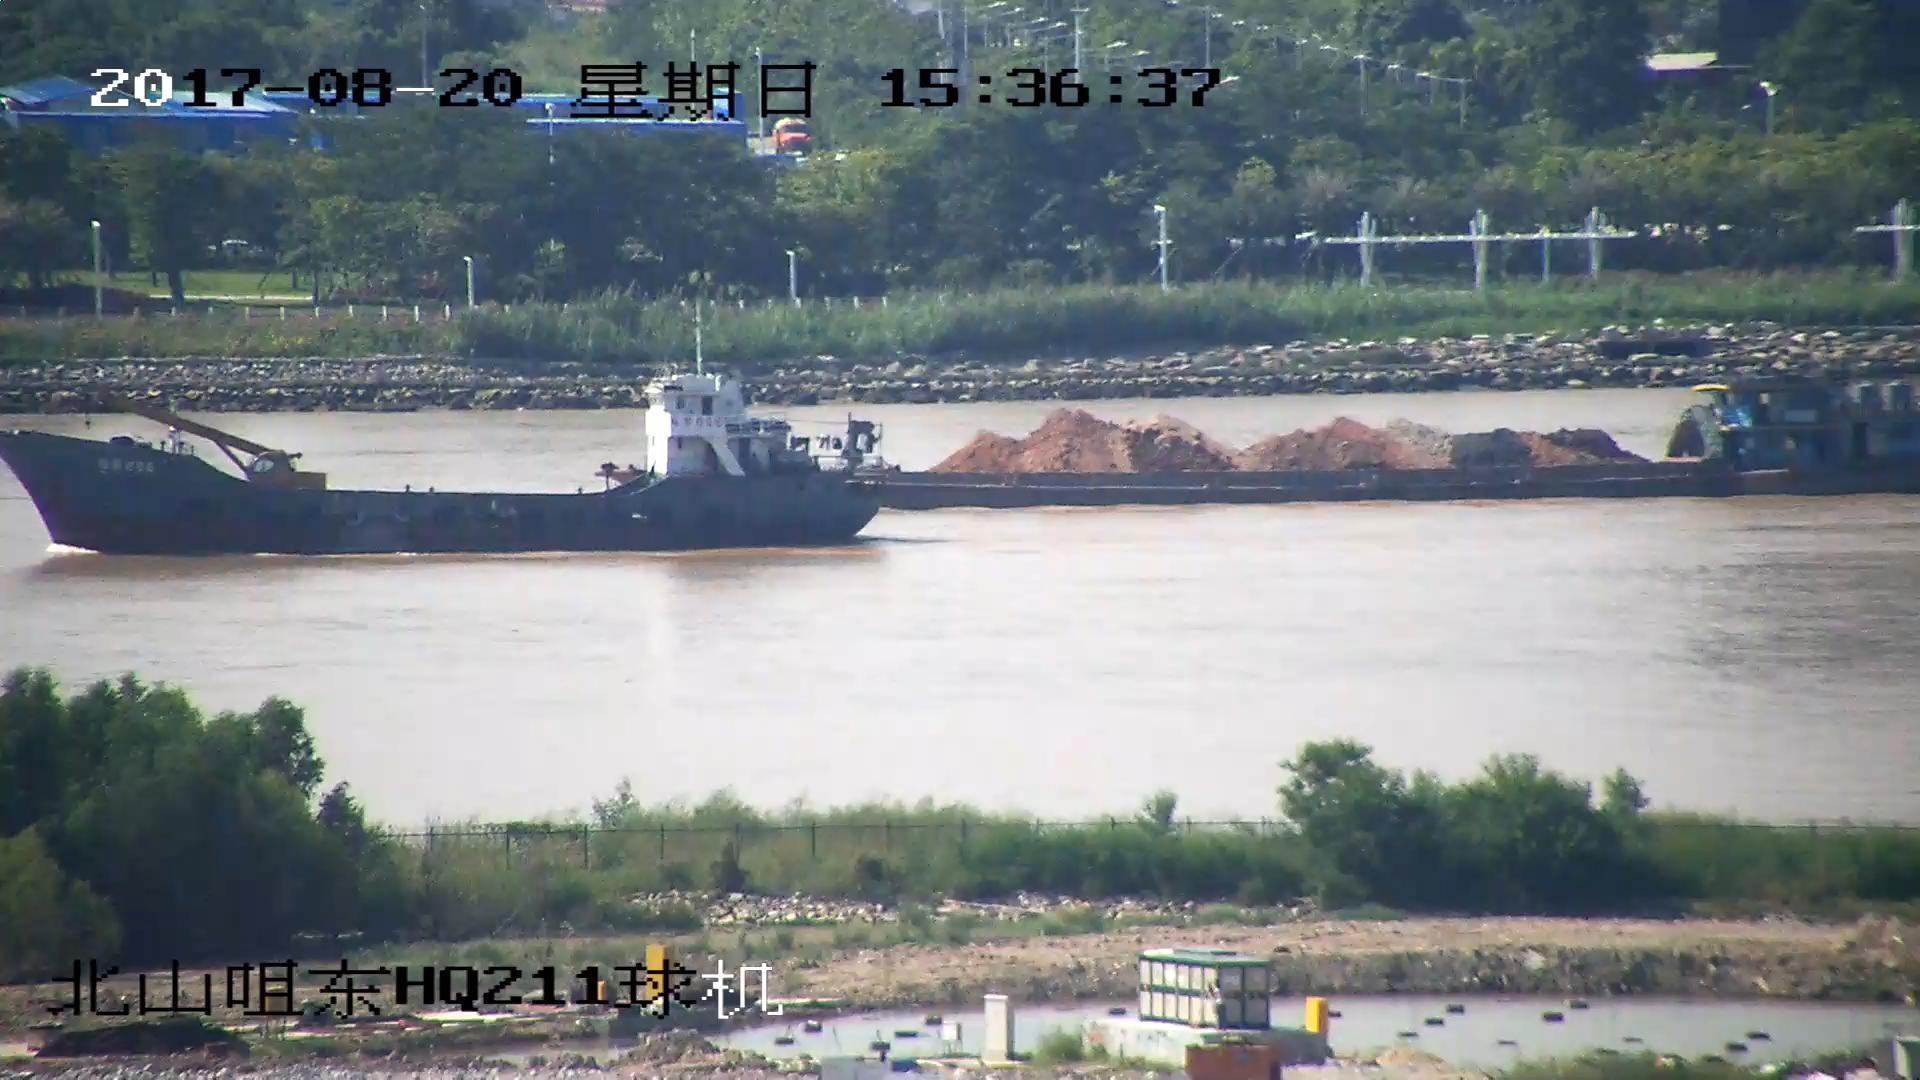Ship: (3, 328, 885, 549), (603, 375, 1920, 502)
